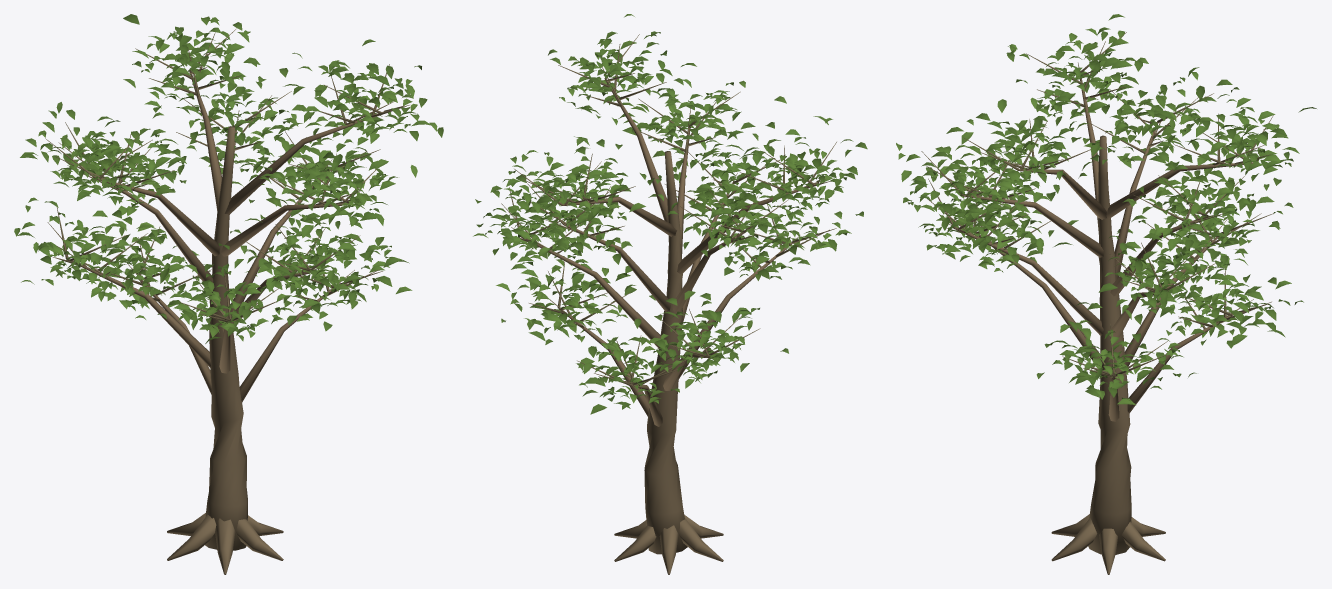
The model's file is hero_tree_lod0.glb.
The picture shows the model from 3 angles, left to right: view 1: azimuth 30°, elevation 25°; view 2: azimuth 150°, elevation 25°; view 3: azimuth 270°, elevation 25°; orthographic projection. The views are drawn at different scales.
Parts seen in each view (by area): view 1: hero_tree_lod0; view 2: hero_tree_lod0; view 3: hero_tree_lod0.
Part boxes in pixels (x1=…): hero_tree_lod0: x1=14, y1=14, x2=443, y2=574; hero_tree_lod0: x1=473, y1=14, x2=867, y2=574; hero_tree_lod0: x1=896, y1=14, x2=1316, y2=574.
Bounding box in the file's own units: 3.74 × 4.71 × 3.74.
